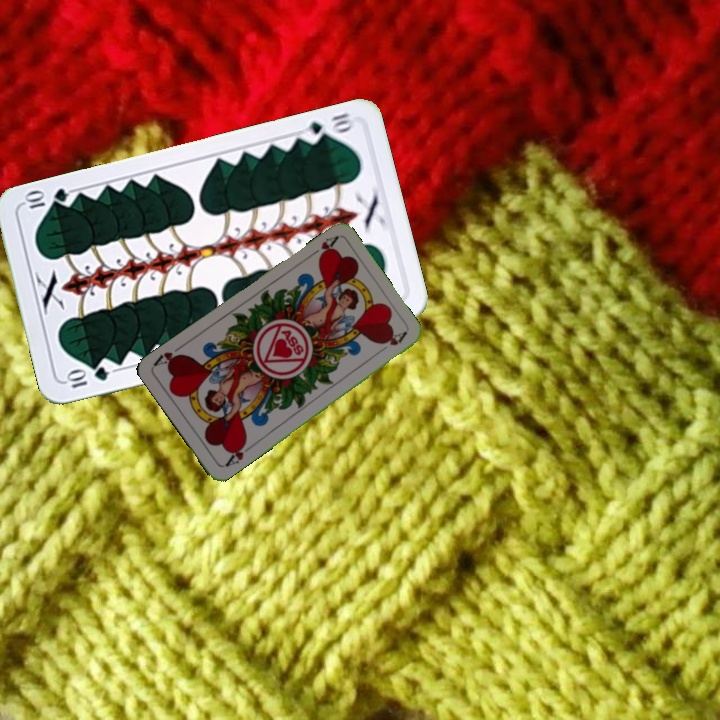G10: (300, 109, 358, 146), (62, 363, 111, 391)
HA: (221, 437, 255, 469), (304, 232, 340, 262)
